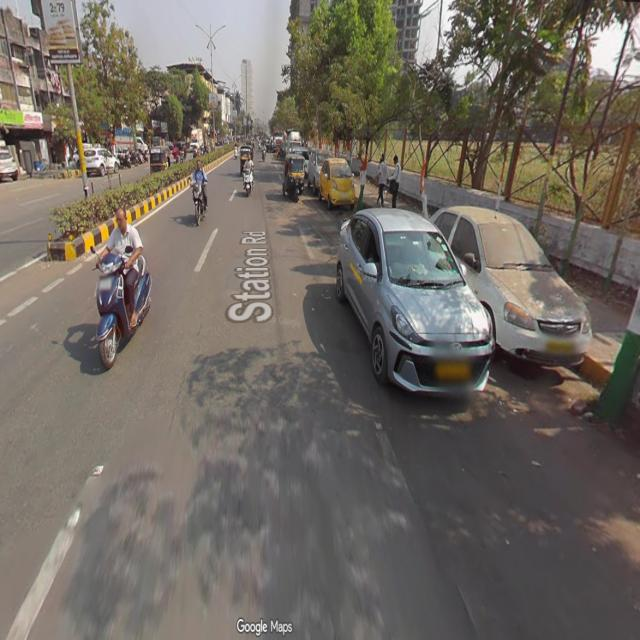illegalparking: (330, 204, 604, 478)
